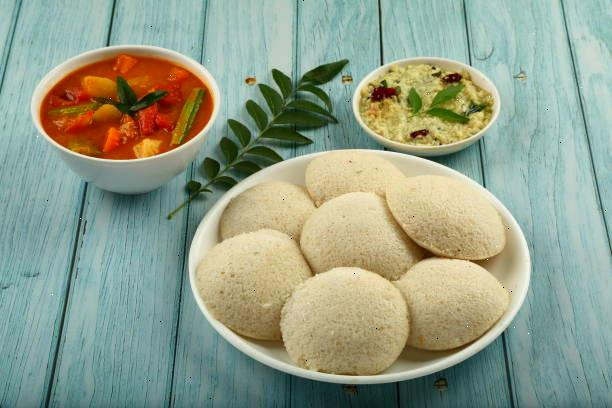coconut chutney: (365, 57, 481, 138)
idli: (217, 154, 512, 360)
sambhar: (43, 53, 205, 158)
